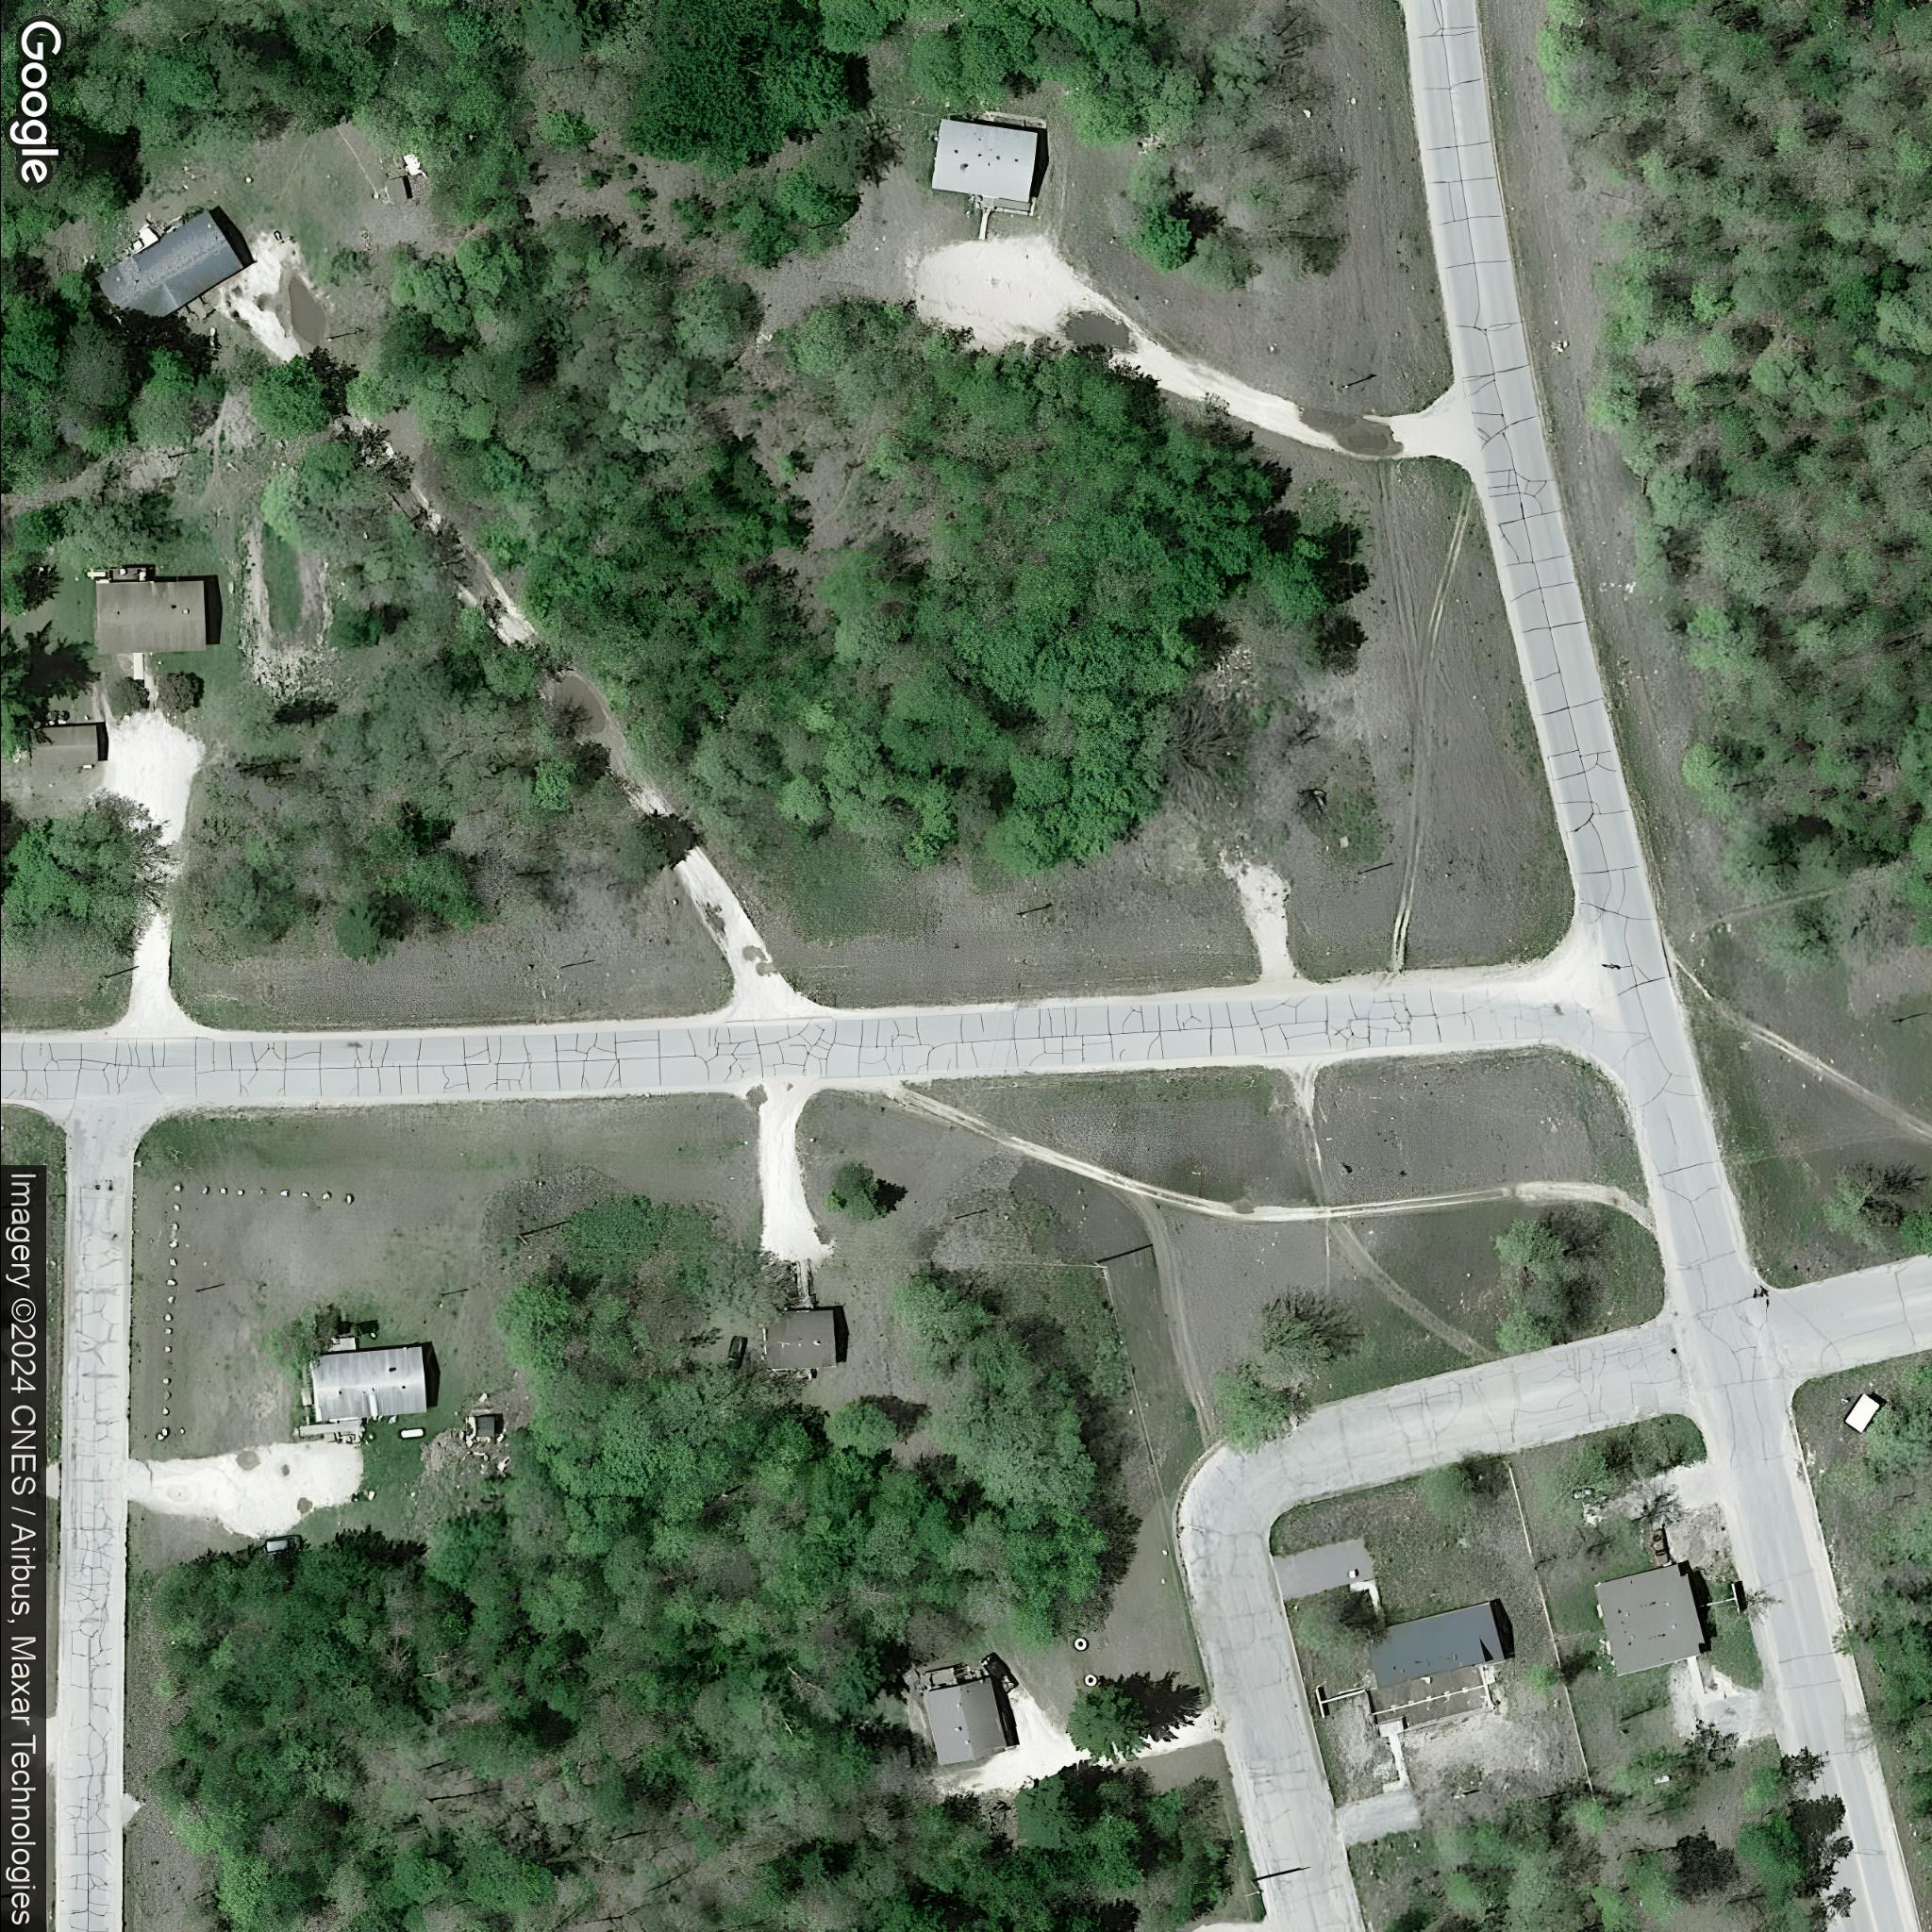Garage: (27, 724, 99, 771)
House: (87, 205, 244, 340), (1591, 1564, 1706, 1683), (1364, 1599, 1509, 1691), (925, 113, 1042, 205), (304, 1341, 428, 1426), (92, 577, 207, 658), (918, 1677, 1008, 1769), (755, 1307, 839, 1376)
Propane: (395, 1424, 426, 1442)
